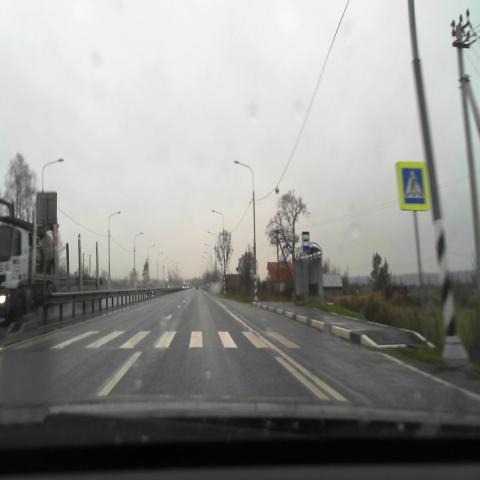5_19_1: (397, 162, 429, 212)
